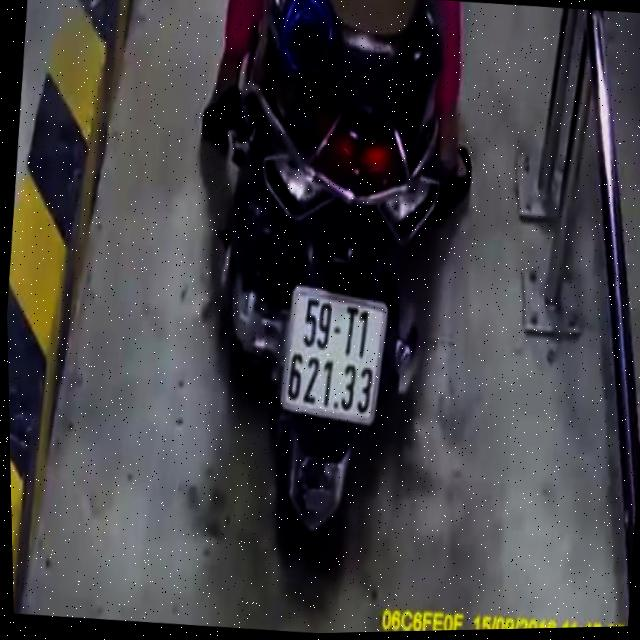motorcycle: (183, 0, 472, 568)
plate: (274, 279, 393, 428)
